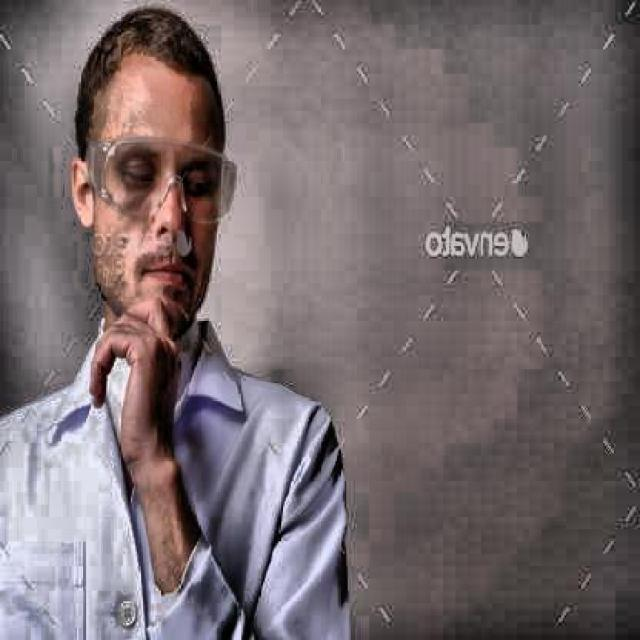Goggles: (75, 130, 243, 233)
